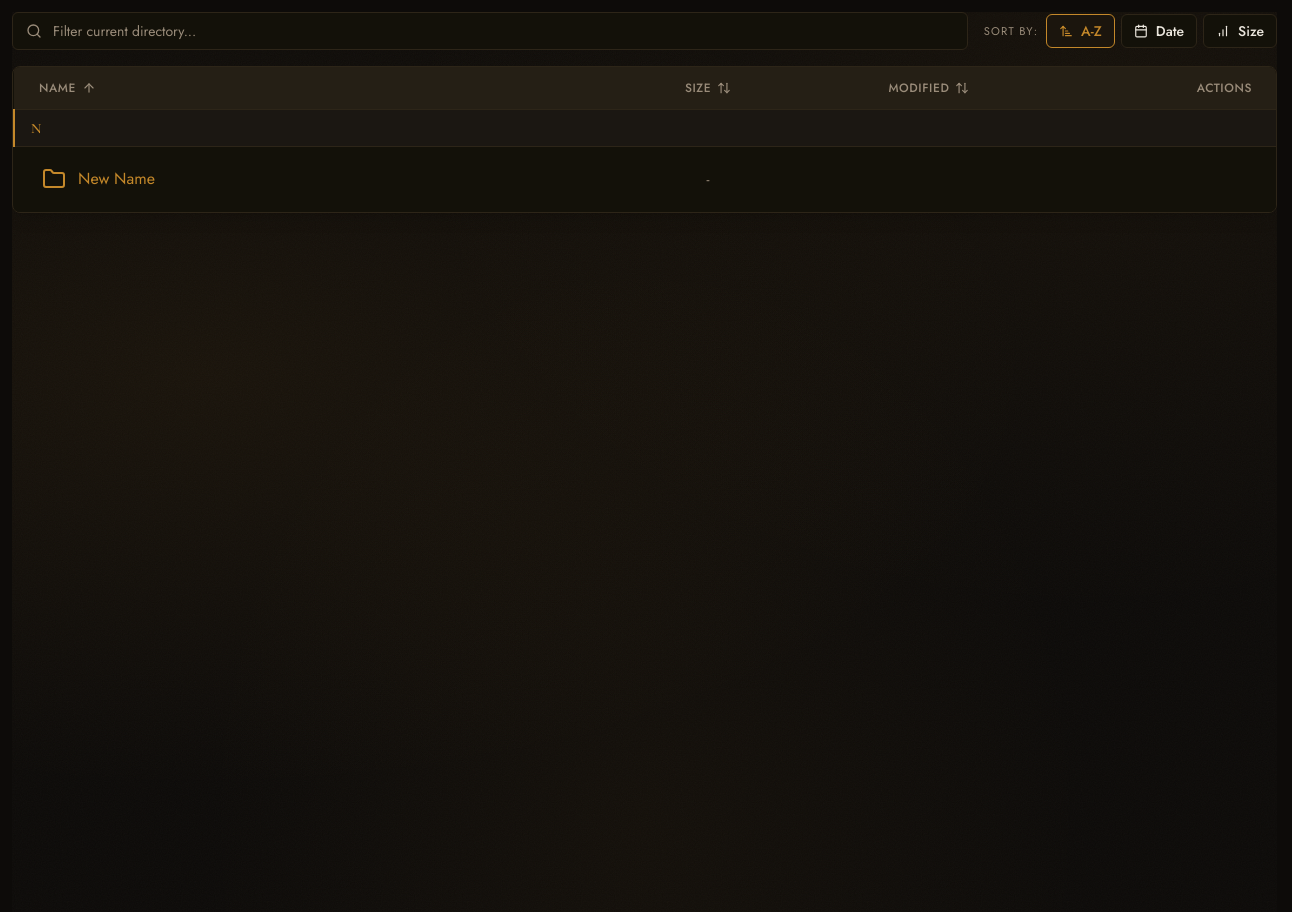
Test: FolderView › filters collections by an inferred historical uploader alias
Type "Old Name" into the field at (490, 31), box [12,12,968,50]
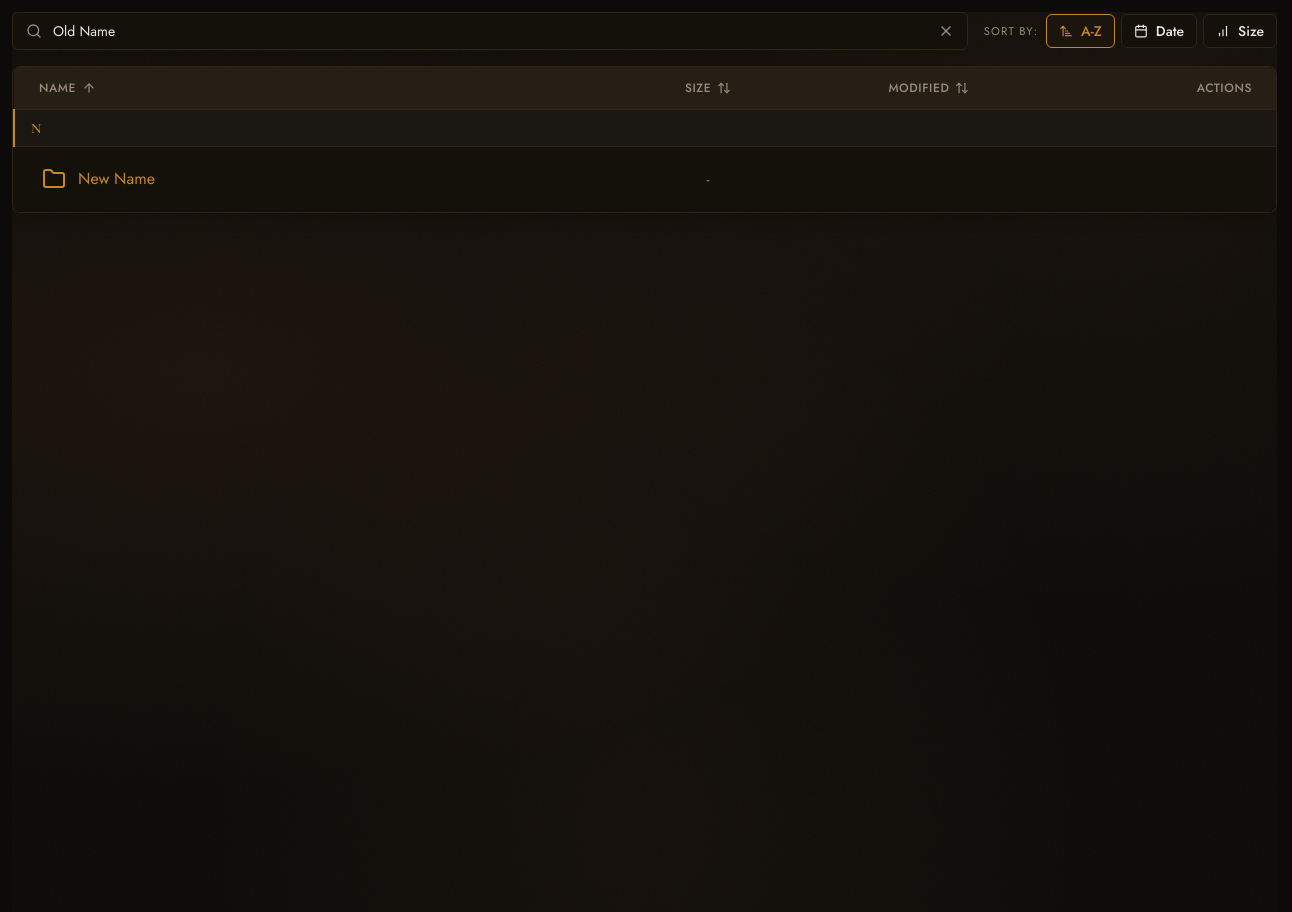
Check: the text "New Name" is shown, box [78,167,155,191]
Replace the text in the field with "Unrelated" at (490, 31), box [12,12,968,50]
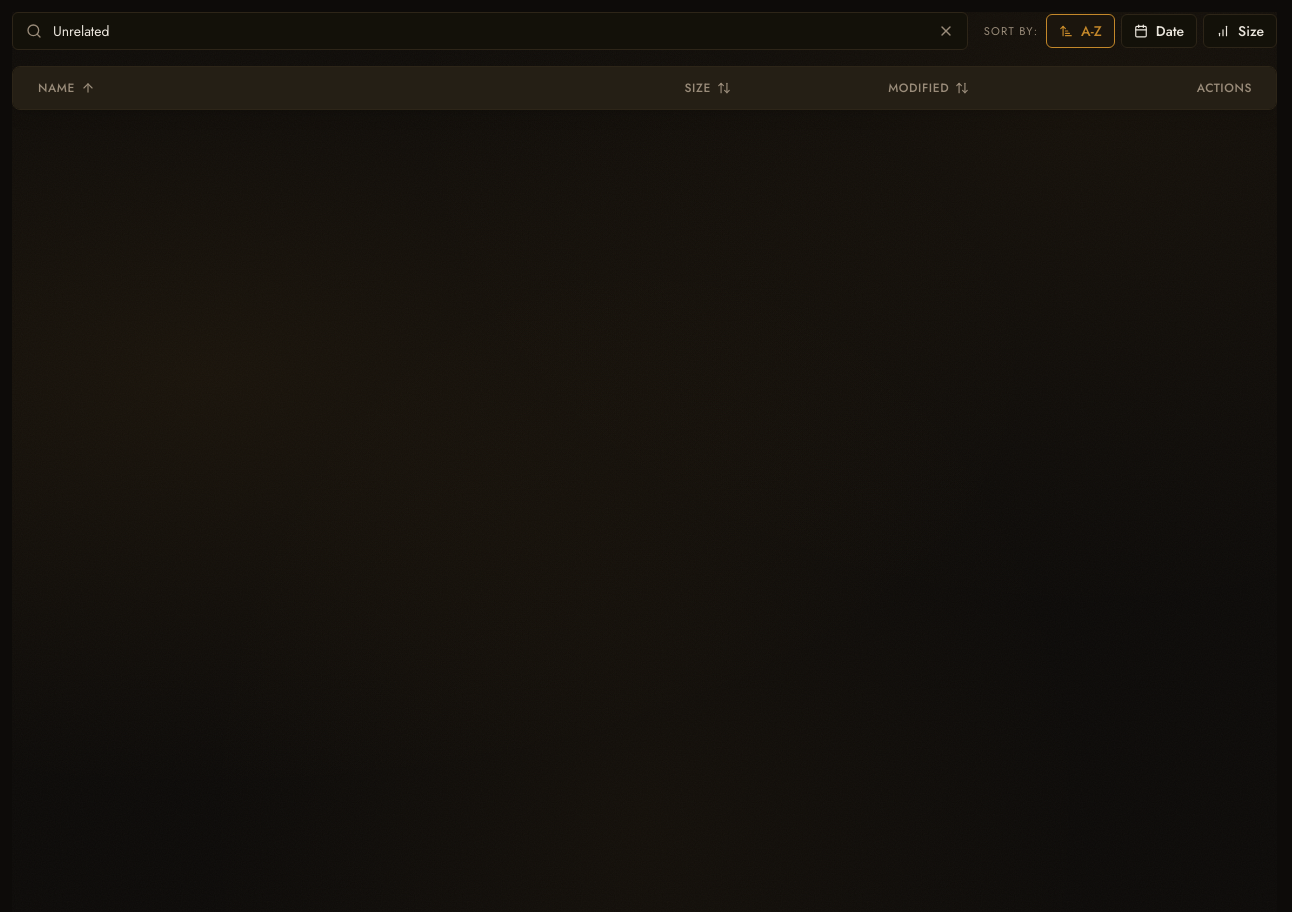
Check: the link "New Name" is gone
